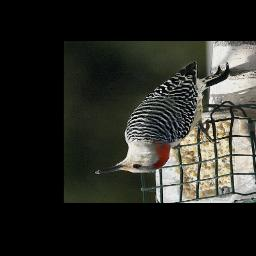Woodpecker: (95, 61, 230, 175)
